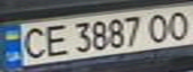3: (69, 19, 93, 53)
7: (121, 12, 148, 46)
8: (90, 17, 112, 52), (106, 16, 127, 50)
C: (15, 25, 51, 61)
E: (39, 21, 72, 57)
O: (142, 11, 175, 43), (163, 7, 193, 40)
